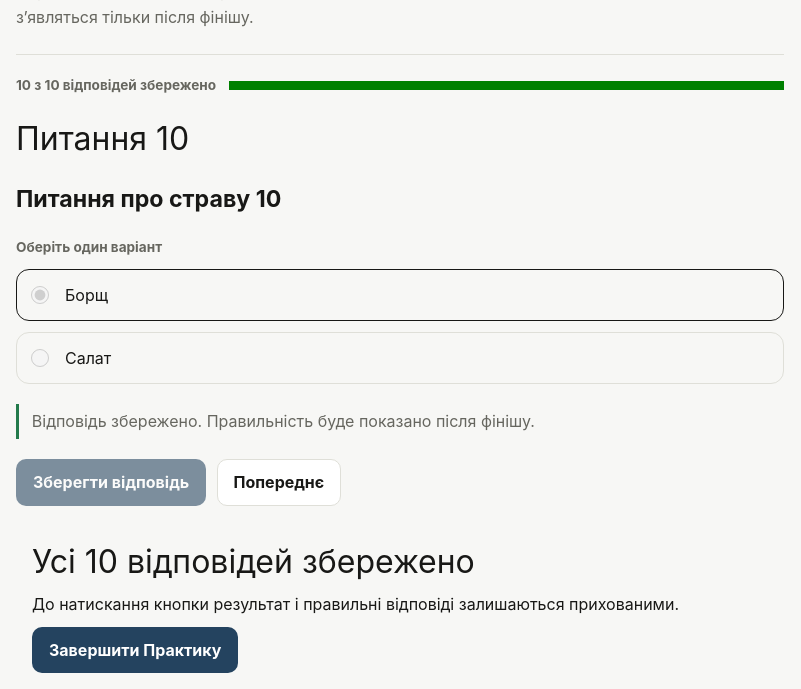
Test: Employee Practice › reveals review and durable eligibility only after explicit finish
The image size is (801, 689).
(page scrolled)
Expected: the heading "Усі 10 відповідей збережено" is shown, [32,542,475,581]
Click the button "Завершити Практику" at (135, 650), box [32,627,238,673]
(page scrolled)
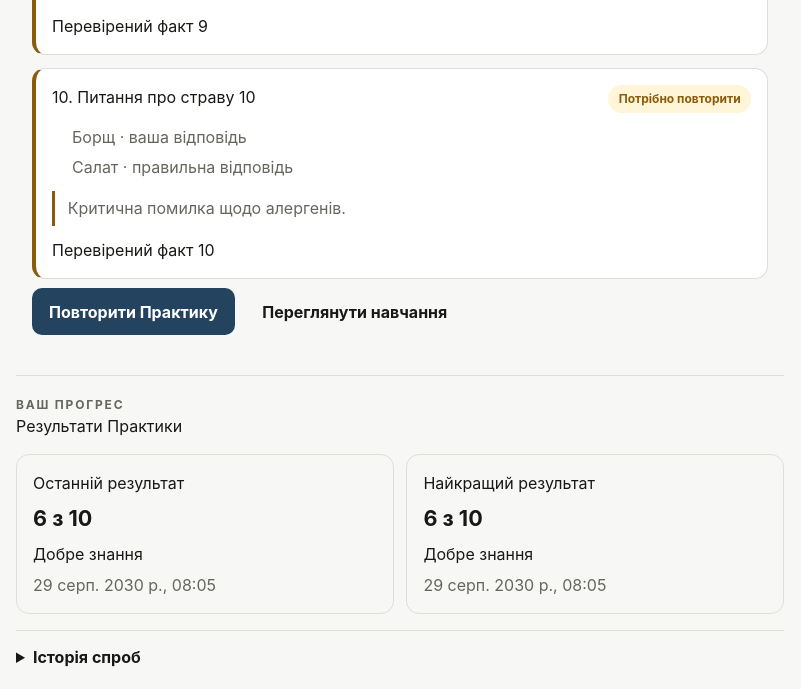
Expected: the text "Критична помилка щодо алергенів." is shown, [52,190,751,226]
Expected: the heading "Останній результат" is shown, [33,473,184,493]
Expected: the heading "Найкращий результат" is shown, [423,473,595,493]
